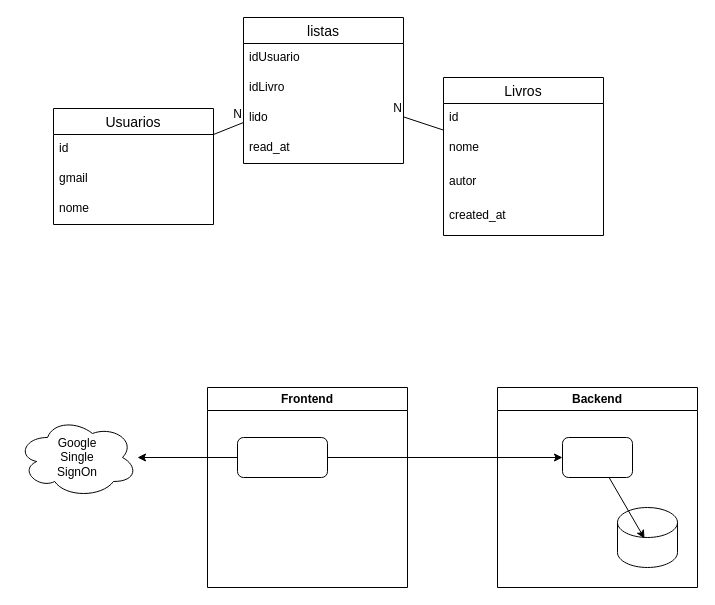
Image size: 715x605. Some labels were removed from this diagram. Here are the shapes that lost their labels. From the top down, the centre of each, then its label:
At (x=282, y=457): "SPA".
At (x=597, y=457): "API".
At (x=647, y=537): "Postgres".
